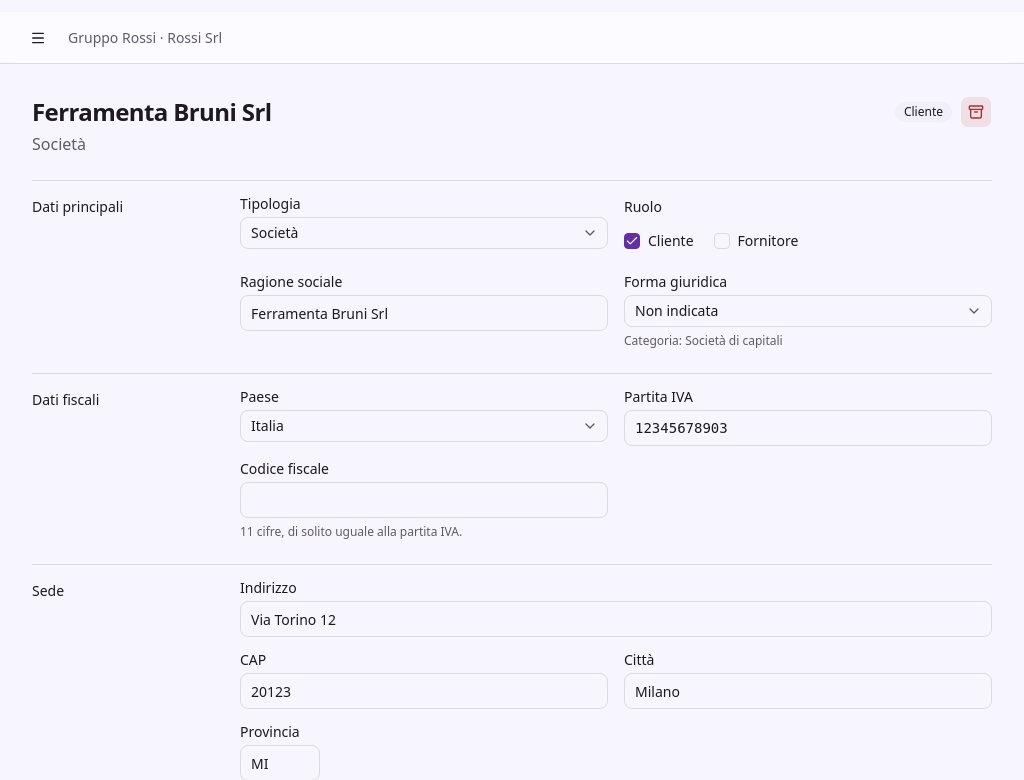
Test: parties on smaller screens › on a phone: Save and Cancel appear at the bottom only with changes
Expected: the button "Salva" is not shown
Type " centro" into the field labelled "Città" at (808, 691), box 624,673 -> 992,709
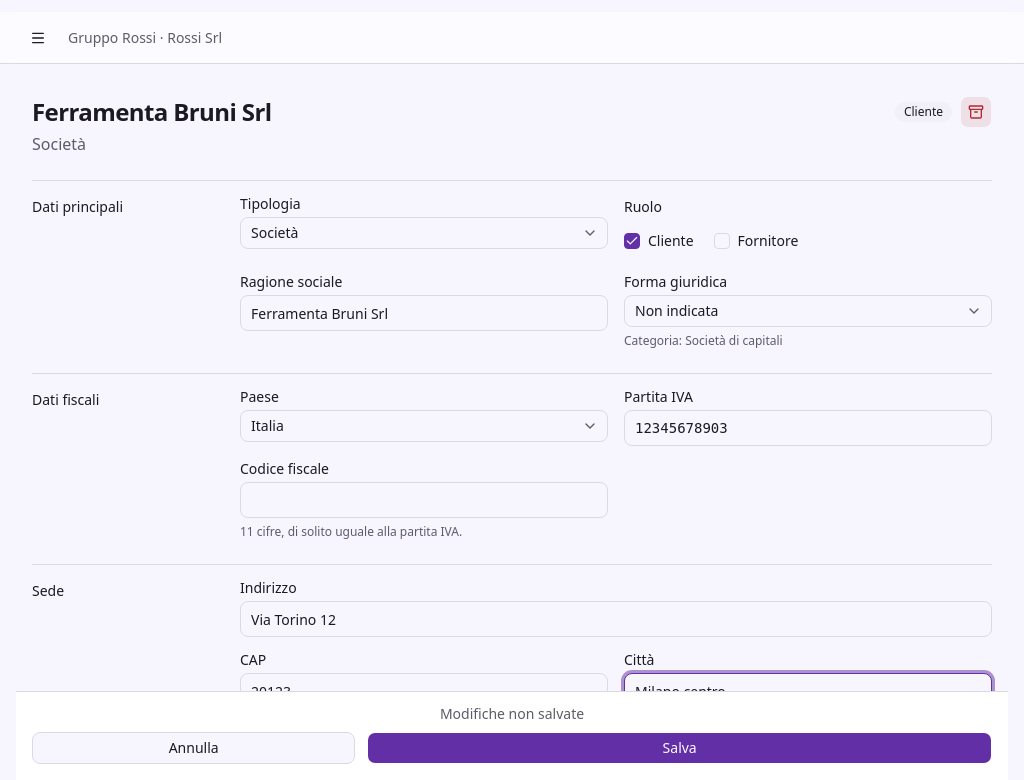
Expected: the button named "Archivia" is shown, 960,96 -> 992,128
Now the button "Salva" is enabled, box 367,732 -> 992,764
Now the text "Modifiche non salvate" is shown, box 440,704 -> 584,723
